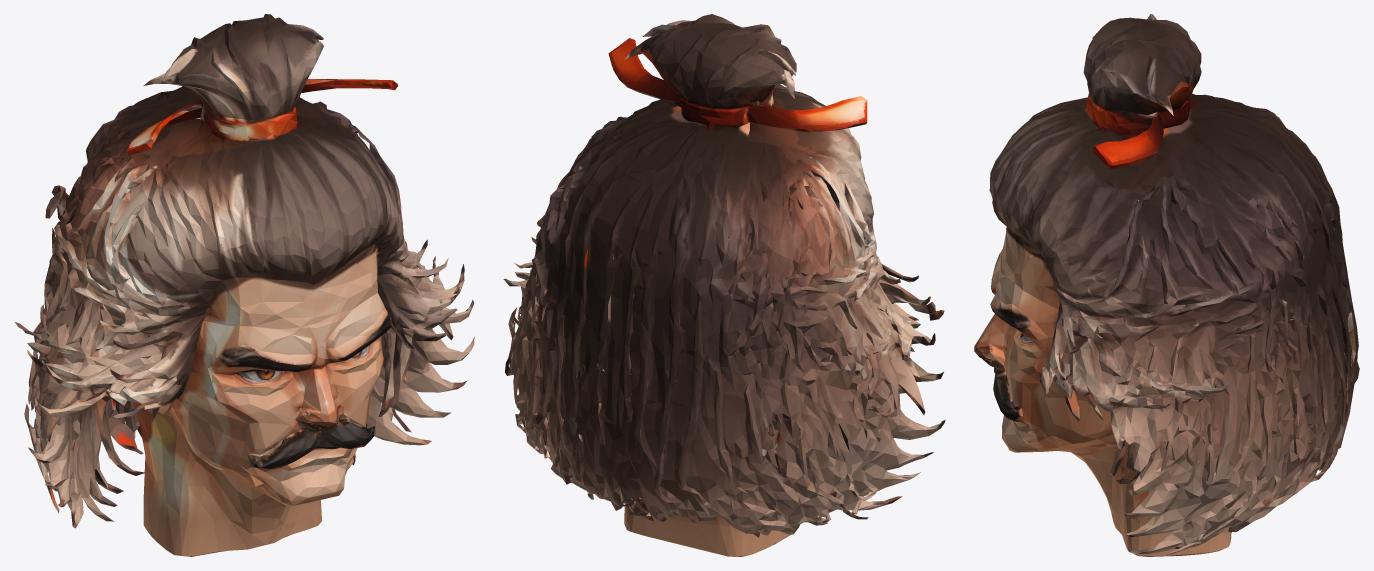
File: side_goroso_repaired_atlas.glb
3 renders of one model, left to right at view 1: azimuth 30°, elevation 25°; view 2: azimuth 150°, elevation 25°; view 3: azimuth 270°, elevation 25°, orthographic. The views are drawn at different scales.
Visible parts, largest first — view 1: temp_mesh.ply; view 2: temp_mesh.ply; view 3: temp_mesh.ply.
Part boxes in pixels (left/top/right/bottom): temp_mesh.ply: left=15, top=14, right=474, bottom=556; temp_mesh.ply: left=503, top=14, right=945, bottom=556; temp_mesh.ply: left=974, top=14, right=1359, bottom=556.
Bounding box in the file's own units: 1.82 × 1.97 × 1.4.
Materials: 1 (1 with a texture image).
